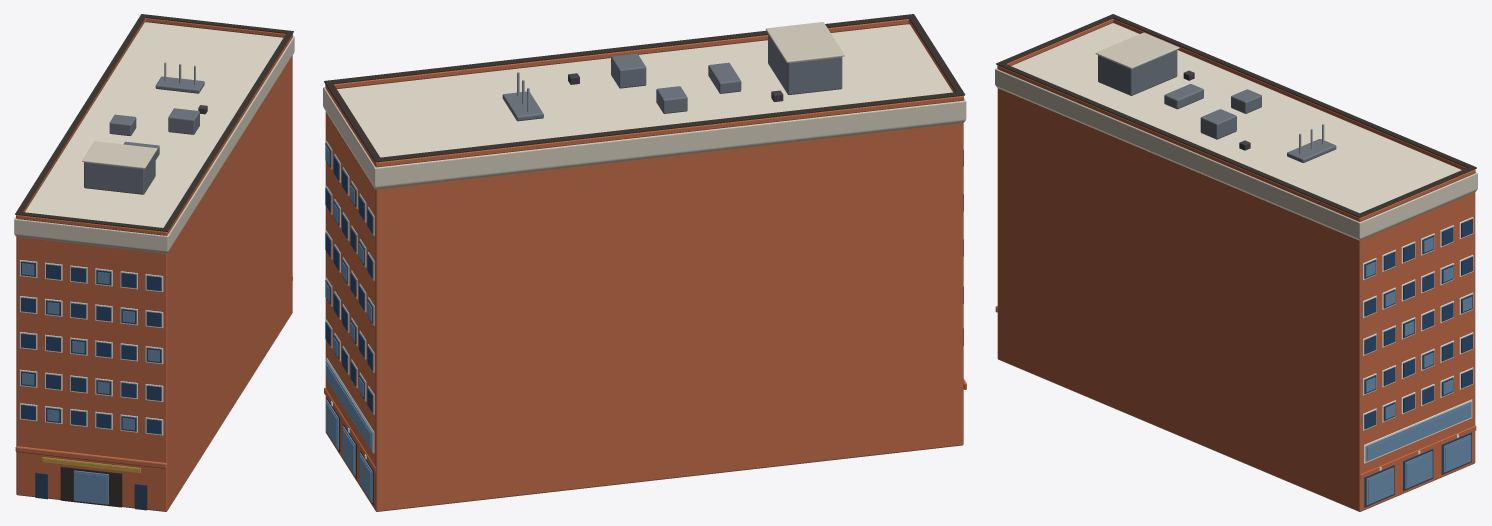
File: 132-embarcadero.glb
3 renders of one model, left to right at view 1: azimuth 30°, elevation 25°; view 2: azimuth 150°, elevation 25°; view 3: azimuth 270°, elevation 25°, orthographic. The views are drawn at different scales.
Parts seen in each view (by area): view 1: body, crown, coping, parapet, bulkhead, bulkhead_cap, entry_recess, lintel, entry_glass_glow, plant0, antenna_deck, plant1 (+3 smaller); view 2: body, crown, coping, parapet, bulkhead, bulkhead_cap, plant0, plant2, antenna_deck, plant1, ribbon_glow; view 3: body, crown, coping, parapet, bulkhead, bulkhead_cap, ribbon_glow, plant0, plant2, spandrel, antenna_deck, shop1_glow (+4 smaller).
Part boxes in pixels (x1=…): body: x1=16, y1=22, x2=292, y2=511; crown: x1=14, y1=36, x2=294, y2=253; coping: x1=15, y1=14, x2=293, y2=231; parapet: x1=16, y1=18, x2=292, y2=235; bulkhead: x1=84, y1=152, x2=155, y2=194; bulkhead_cap: x1=82, y1=141, x2=157, y2=168; entry_recess: x1=60, y1=466, x2=122, y2=507; lintel: x1=15, y1=446, x2=166, y2=468; entry_glass_glow: x1=75, y1=472, x2=106, y2=503; plant0: x1=168, y1=108, x2=199, y2=134; antenna_deck: x1=155, y1=76, x2=204, y2=93; plant1: x1=109, y1=114, x2=136, y2=135; body: x1=325, y1=24, x2=963, y2=511; crown: x1=323, y1=87, x2=966, y2=189; coping: x1=324, y1=14, x2=965, y2=162; parapet: x1=325, y1=19, x2=963, y2=167; bulkhead: x1=768, y1=33, x2=842, y2=94; bulkhead_cap: x1=765, y1=22, x2=844, y2=62; plant0: x1=611, y1=53, x2=646, y2=88; plant2: x1=708, y1=62, x2=741, y2=93; antenna_deck: x1=502, y1=91, x2=543, y2=121; plant1: x1=656, y1=86, x2=687, y2=113; ribbon_glow: x1=326, y1=363, x2=371, y2=447; body: x1=997, y1=23, x2=1475, y2=511; crown: x1=995, y1=68, x2=1477, y2=240; coping: x1=996, y1=14, x2=1476, y2=217; parapet: x1=997, y1=18, x2=1475, y2=221; bulkhead: x1=1098, y1=50, x2=1177, y2=95; bulkhead_cap: x1=1095, y1=32, x2=1179, y2=68; ribbon_glow: x1=1367, y1=404, x2=1470, y2=459; plant0: x1=1200, y1=109, x2=1236, y2=139; plant2: x1=1164, y1=84, x2=1203, y2=109; spandrel: x1=1360, y1=425, x2=1476, y2=479; antenna_deck: x1=1287, y1=139, x2=1336, y2=162; shop1_glow: x1=1406, y1=453, x2=1431, y2=486.
Bounding box in the file's own units: 40.44 × 29.57 × 40.47.
